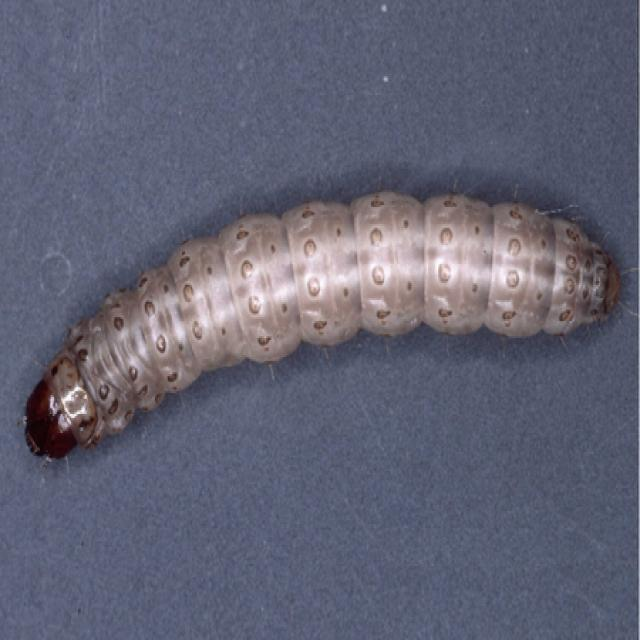cornborer-Larva-: (18, 154, 624, 477)
